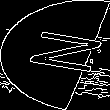N_E: (8, 29, 102, 81)
